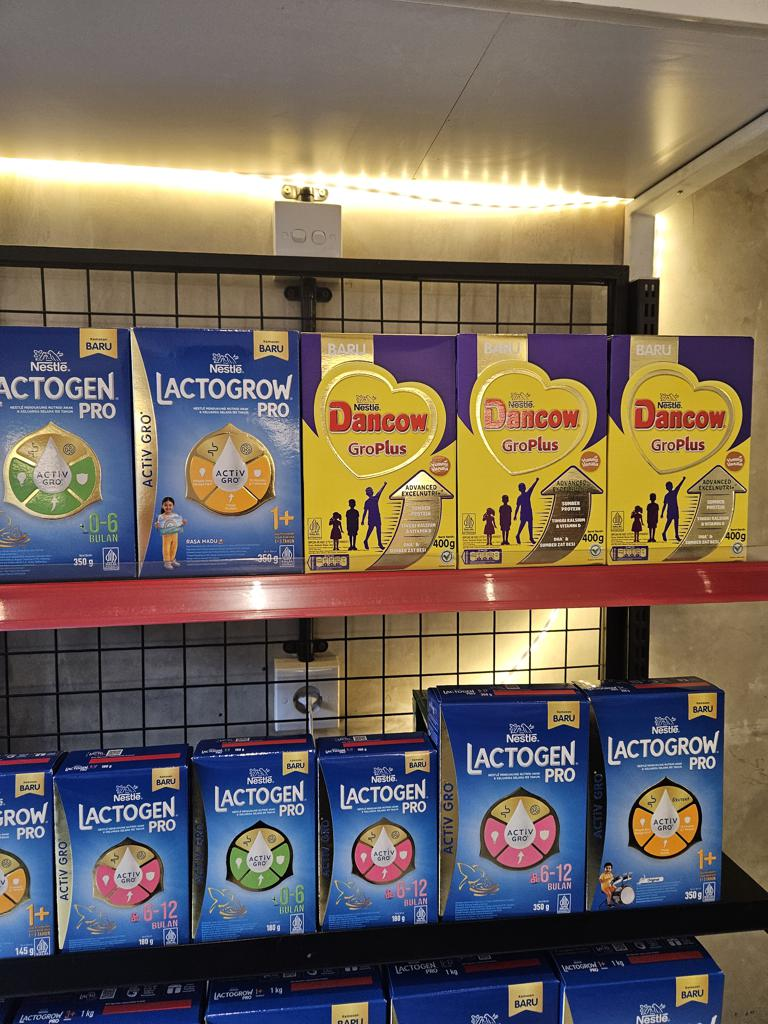LACTOGEN PRO 6-12 mo 24x350g ID: (432, 697, 588, 918)
LACTOGEN PRO 6-12 mo 40x180g ID: (53, 764, 192, 951), (317, 749, 438, 934)
LACTOGROW PRO 1+ Honey 24x350g ID: (131, 324, 306, 579)
